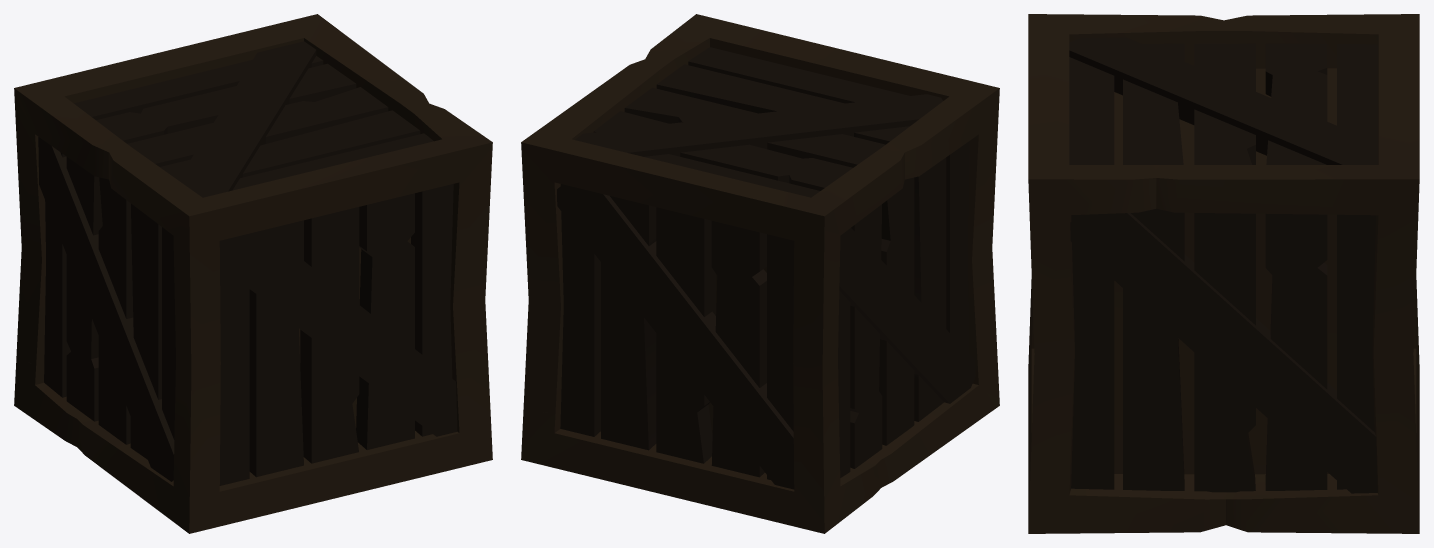
Rendered from Crate.obj.
The picture shows the model from 3 angles, left to right: view 1: azimuth 30°, elevation 25°; view 2: azimuth 150°, elevation 25°; view 3: azimuth 270°, elevation 25°; orthographic projection. The views are drawn at different scales.
Visible parts, largest first — view 1: Crate_Cube.001; view 2: Crate_Cube.001; view 3: Crate_Cube.001.
Boxes of the visible parts, box(x1,y1,x2,y2) form: Crate_Cube.001: box(14, 14, 492, 533); Crate_Cube.001: box(521, 14, 999, 533); Crate_Cube.001: box(1028, 14, 1419, 533).
Bounding box in the file's own units: 0.8239 × 0.824 × 0.824.
